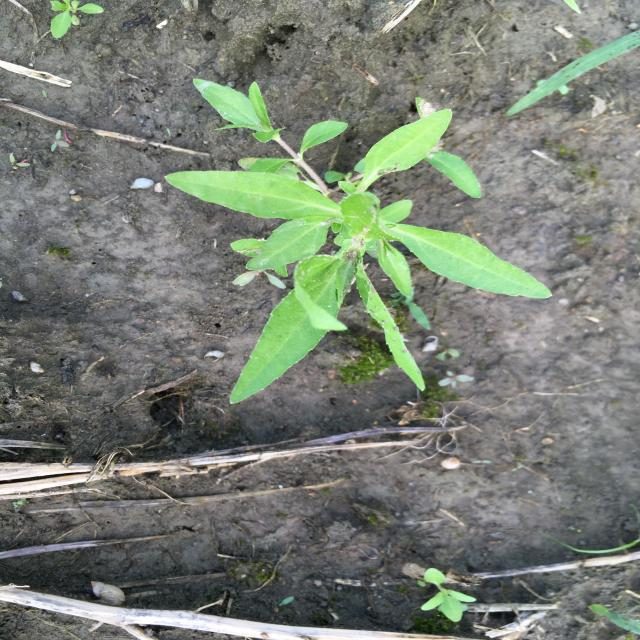Eclipta: (160, 77, 559, 408)
